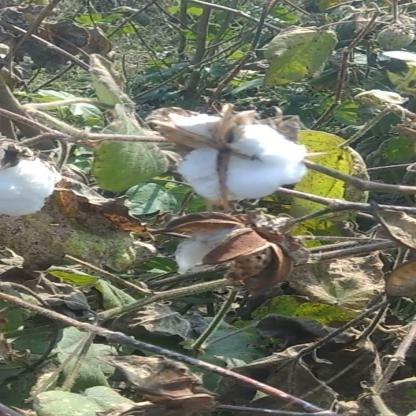cotton_ready: (154, 112, 324, 216)
